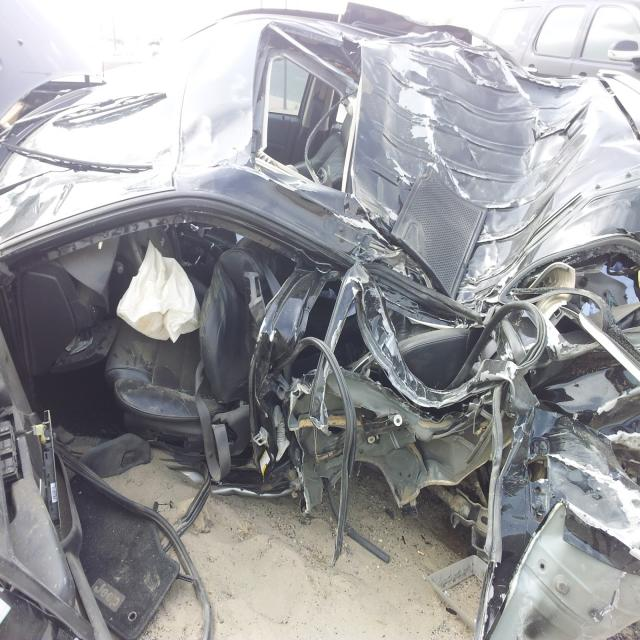crush: (0, 4, 640, 640)
